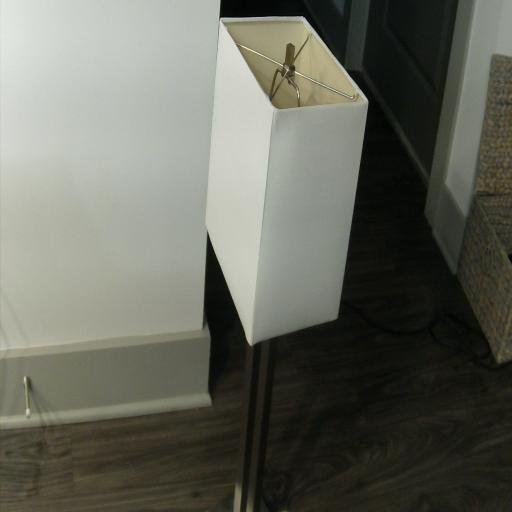lamp: (205, 14, 370, 512)
